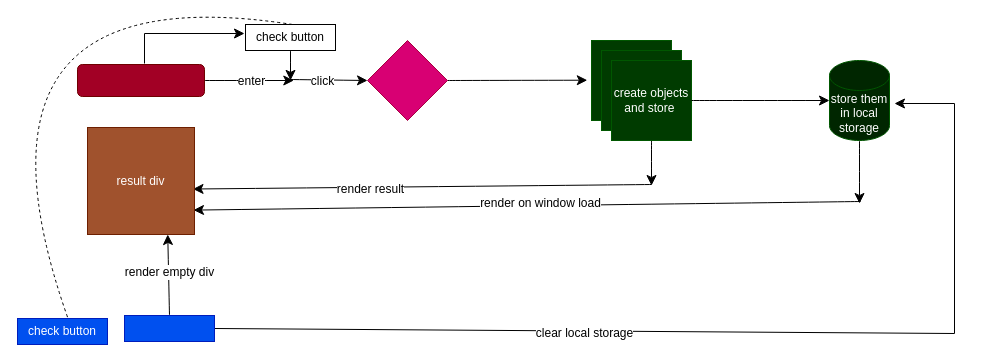
This 982x363 diagram has some shape labels left out. Each missing label, with the centre of its shape:
"check number is valid" goes at (x=407, y=80).
"Input" goes at (x=140, y=80).
"reset button" goes at (x=169, y=328).
